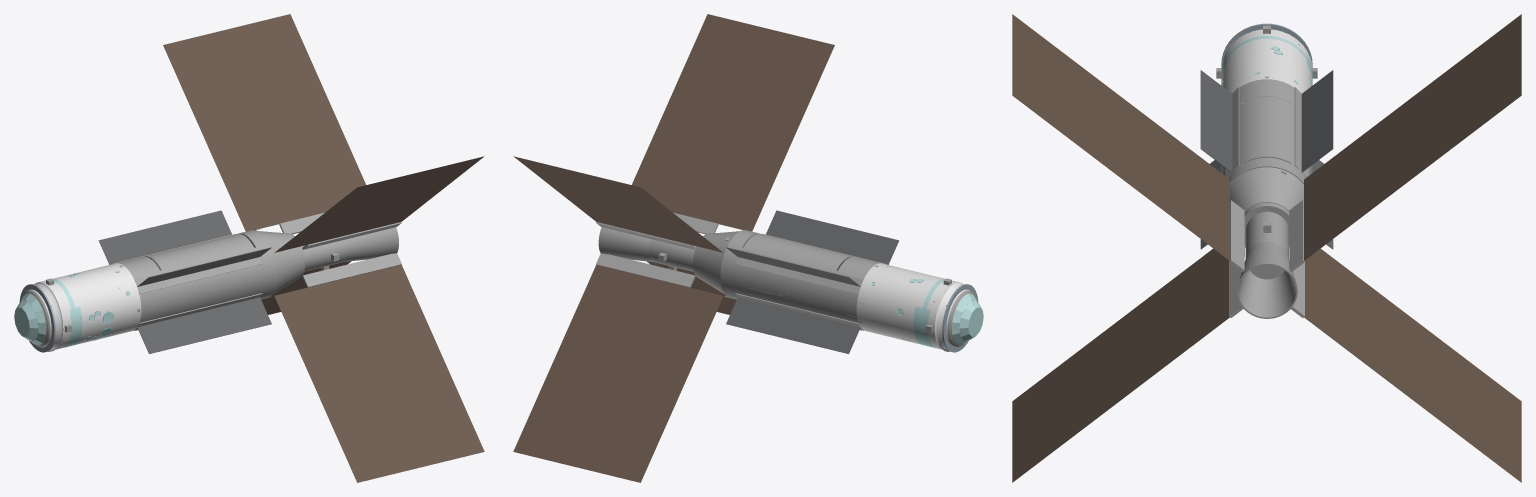
File: wayfarer_shuttle_hold_fullship_88ce19fc_torch_stowed.glb
3 renders of one model, left to right at view 1: azimuth 30°, elevation 25°; view 2: azimuth 150°, elevation 25°; view 3: azimuth 270°, elevation 25°, orthographic. The views are drawn at different scales.
Parts seen in each view (by area): view 1: dry:armor, dry:skin_midship, dry:hotfin_220:pleat_13, dry:hotfin_40:pleat_04, dry:hotfin_220:pleat_09, dry:hotfin_40:pleat_02, dry:hotfin_220:pleat_04, dry:hotfin_220:pleat_07, dry:hotfin_220:pleat_11, dry:hotfin_40:pleat_03, dry:hotfin_40:pleat_05, dry:hotfin_40:pleat_08 (+47 smaller); view 2: dry:armor, dry:skin_midship, dry:hotfin_320:pleat_13, dry:hotfin_140:pleat_04, dry:hotfin_320:pleat_09, dry:hotfin_140:pleat_02, dry:hotfin_320:pleat_04, dry:hotfin_320:pleat_07, dry:hotfin_320:pleat_11, dry:hotfin_140:pleat_03, dry:hotfin_140:pleat_05, dry:hotfin_140:pleat_08 (+47 smaller); view 3: dry:armor, dry:nozzle, dry:thrust_cone, dry:reactor, dry:door_port, dry:door_starboard, dry:hotfin_220:pleat_03, dry:hotfin_320:pleat_03, dry:hotfin_40:pleat_05, dry:hotfin_40:pleat_07, dry:hotfin_140:pleat_05, dry:hotfin_140:pleat_07 (+63 smaller).
Boxes of the visible parts, left/top/right/bottom form: dry:armor: left=23, top=263, right=141, bottom=350; dry:skin_midship: left=160, top=247, right=263, bottom=316; dry:hotfin_220:pleat_13: left=351, top=438, right=484, bottom=482; dry:hotfin_40:pleat_04: left=216, top=134, right=349, bottom=178; dry:hotfin_220:pleat_09: left=327, top=385, right=460, bottom=429; dry:hotfin_40:pleat_02: left=228, top=161, right=361, bottom=205; dry:hotfin_220:pleat_04: left=298, top=318, right=431, bottom=362; dry:hotfin_220:pleat_07: left=316, top=358, right=448, bottom=402; dry:hotfin_220:pleat_11: left=339, top=412, right=472, bottom=455; dry:hotfin_40:pleat_03: left=222, top=147, right=355, bottom=191; dry:hotfin_40:pleat_05: left=210, top=121, right=343, bottom=165; dry:hotfin_40:pleat_08: left=193, top=81, right=325, bottom=125; dry:armor: left=856, top=263, right=974, bottom=350; dry:skin_midship: left=734, top=247, right=837, bottom=316; dry:hotfin_320:pleat_13: left=513, top=438, right=646, bottom=482; dry:hotfin_140:pleat_04: left=648, top=134, right=781, bottom=178; dry:hotfin_320:pleat_09: left=537, top=385, right=670, bottom=429; dry:hotfin_140:pleat_02: left=636, top=161, right=769, bottom=205; dry:hotfin_320:pleat_04: left=566, top=318, right=699, bottom=362; dry:hotfin_320:pleat_07: left=549, top=358, right=681, bottom=402; dry:hotfin_320:pleat_11: left=525, top=412, right=658, bottom=455; dry:hotfin_140:pleat_03: left=642, top=147, right=775, bottom=191; dry:hotfin_140:pleat_05: left=654, top=121, right=787, bottom=165; dry:hotfin_140:pleat_08: left=672, top=81, right=804, bottom=125; dry:armor: left=1221, top=29, right=1312, bottom=93; dry:nozzle: left=1237, top=242, right=1297, bottom=318; dry:thrust_cone: left=1230, top=167, right=1303, bottom=247; dry:reactor: left=1245, top=211, right=1288, bottom=279; dry:door_port: left=1242, top=97, right=1266, bottom=163; dry:door_starboard: left=1267, top=97, right=1291, bottom=163; dry:hotfin_220:pleat_03: left=1167, top=271, right=1183, bottom=364; dry:hotfin_320:pleat_03: left=1350, top=271, right=1366, bottom=364; dry:hotfin_40:pleat_05: left=1381, top=109, right=1397, bottom=201; dry:hotfin_40:pleat_07: left=1412, top=85, right=1428, bottom=177; dry:hotfin_140:pleat_05: left=1136, top=109, right=1152, bottom=201; dry:hotfin_140:pleat_07: left=1105, top=85, right=1121, bottom=177.
Bounding box in the file's own units: 54.5 × 42.11 × 50.18.
